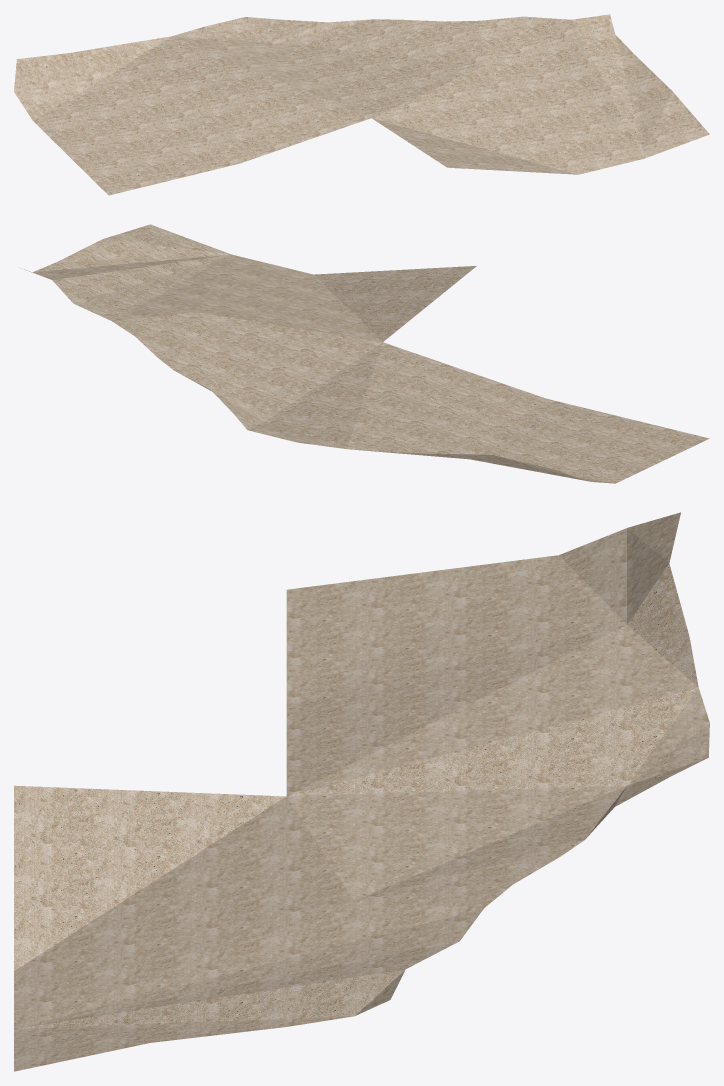
The model's file is lodseabed097.obj.
3 renders of one model, top to bottom at view 1: azimuth 30°, elevation 25°; view 2: azimuth 150°, elevation 25°; view 3: azimuth 270°, elevation 25°, orthographic. The views are drawn at different scales.
Parts seen in each view (by area): view 1: lodseabed097; view 2: lodseabed097; view 3: lodseabed097.
Part boxes in pixels (x1,y1,x2,y2): lodseabed097: [14, 14, 709, 195]; lodseabed097: [21, 224, 709, 483]; lodseabed097: [14, 512, 709, 1071].
Bounding box in the file's own units: 399 × 51.53 × 252.
